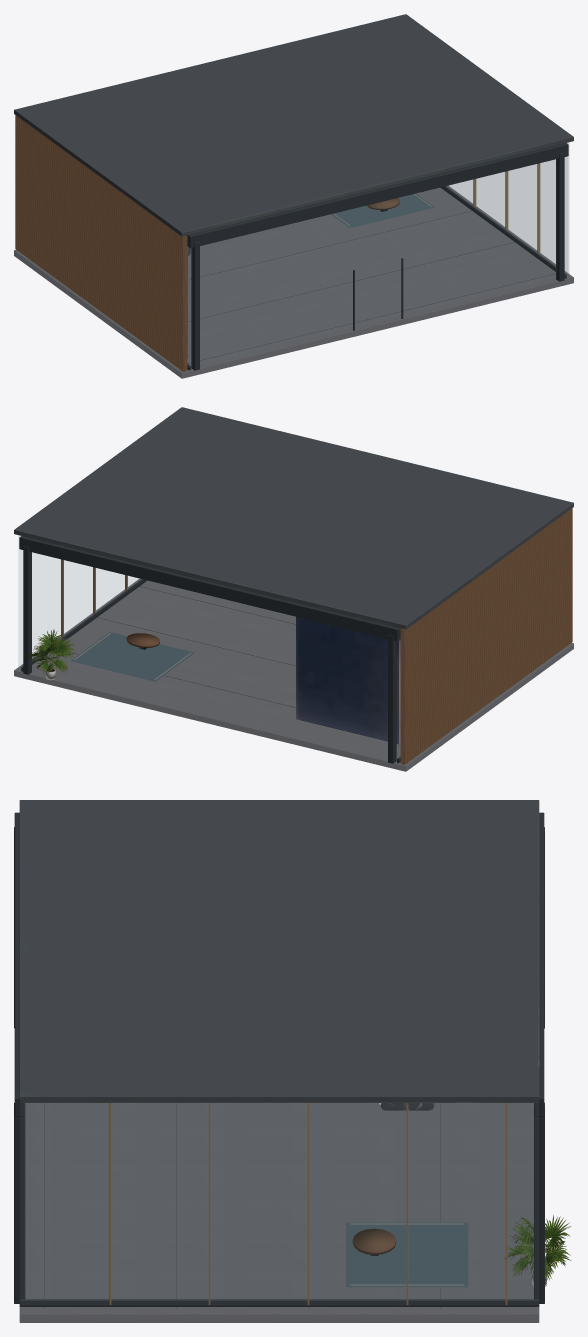
File: environment-0.glb
3 renders of one model, top to bottom at view 1: azimuth 30°, elevation 25°; view 2: azimuth 150°, elevation 25°; view 3: azimuth 270°, elevation 25°, orthographic. The views are drawn at different scales.
Visible parts, largest first — view 1: PLANTER_TERRA_BASE_PLANTER_BOTTOM_CROSS_Mat_0; view 2: PLANTER_TERRA_BASE_PLANTER_BOTTOM_CROSS_Mat_0; view 3: PLANTER_TERRA_BASE_PLANTER_BOTTOM_CROSS_Mat_0.
Boxes of the visible parts, x1=… form: PLANTER_TERRA_BASE_PLANTER_BOTTOM_CROSS_Mat_0: x1=14, y1=14, x2=573, y2=378; PLANTER_TERRA_BASE_PLANTER_BOTTOM_CROSS_Mat_0: x1=14, y1=407, x2=573, y2=771; PLANTER_TERRA_BASE_PLANTER_BOTTOM_CROSS_Mat_0: x1=14, y1=800, x2=571, y2=1322.
Size of the model in its own units: 17 by 6.06 by 13.57.
Materials: 18 (9 with a texture image).
